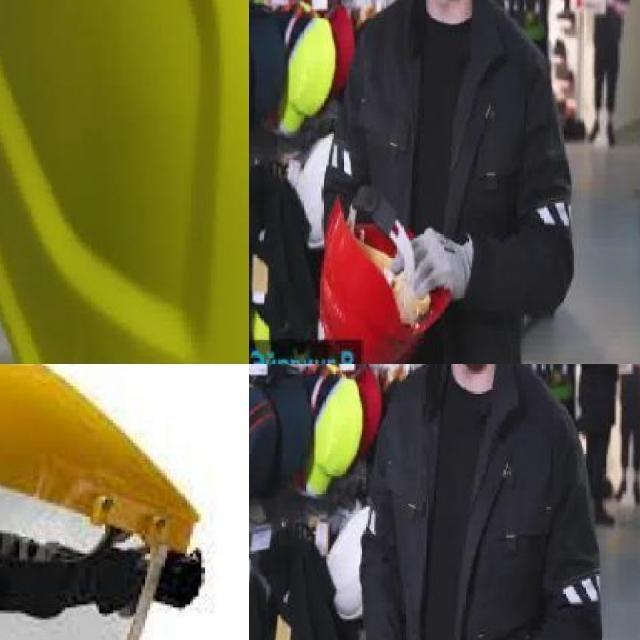apron: (393, 222, 468, 306)
